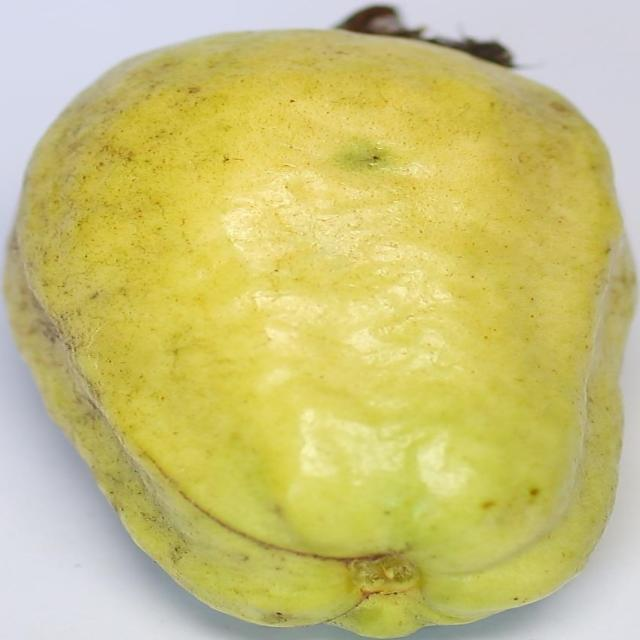Good_Guava: (1, 28, 638, 640)
